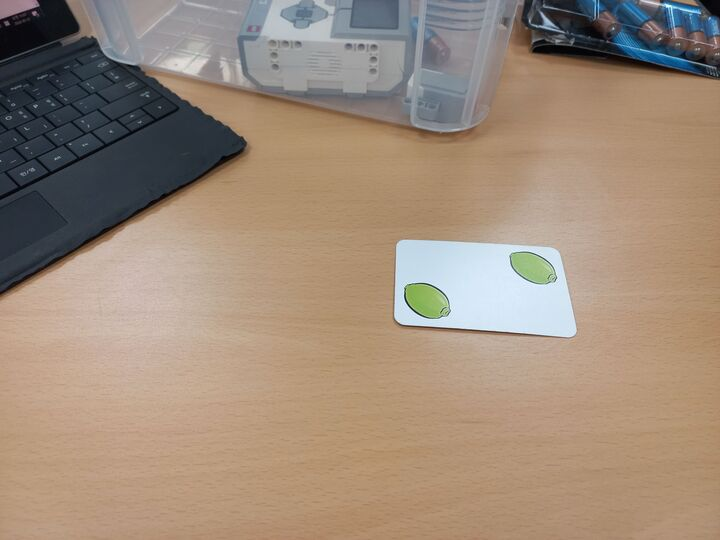lime2: (392, 237, 582, 341)
